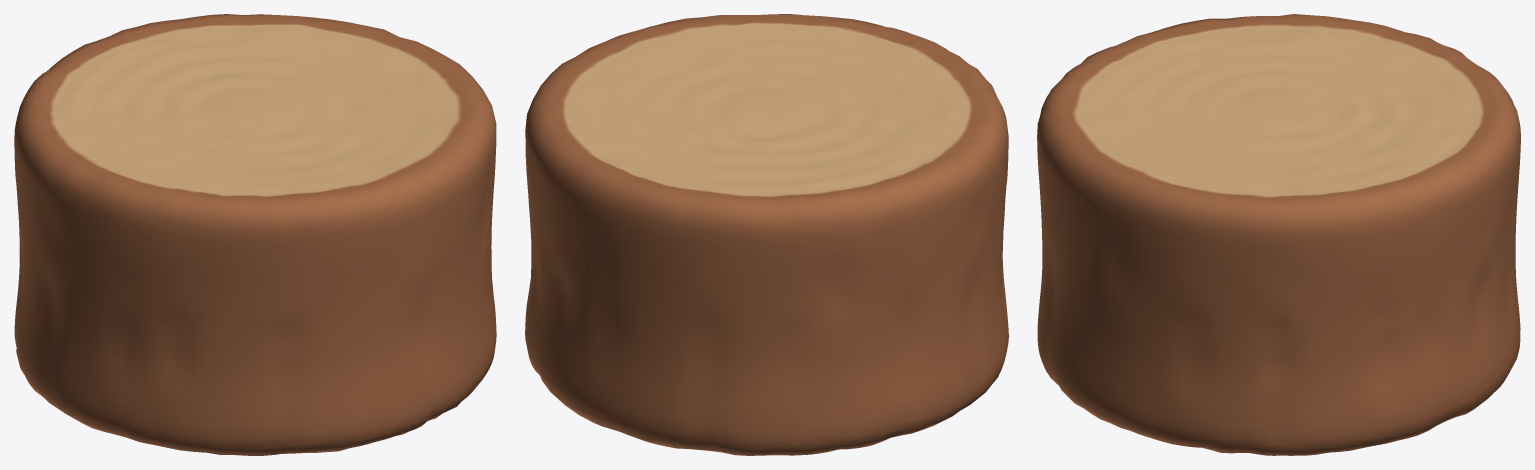
Rendered from CHOPPINGBLOCK.fbx.
3 renders of one model, left to right at view 1: azimuth 30°, elevation 25°; view 2: azimuth 150°, elevation 25°; view 3: azimuth 270°, elevation 25°, orthographic.
Visible parts, largest first — view 1: CHOPPINGBLOCK_LOW; view 2: CHOPPINGBLOCK_LOW; view 3: CHOPPINGBLOCK_LOW.
Part boxes in pixels (x1,y1,x2,y2): CHOPPINGBLOCK_LOW: (14,14,496,455); CHOPPINGBLOCK_LOW: (525,14,1008,455); CHOPPINGBLOCK_LOW: (1037,14,1520,455).
Size of the model in its own units: 1.99 by 1.15 by 1.99.
Materials: 1 (1 with a texture image).
